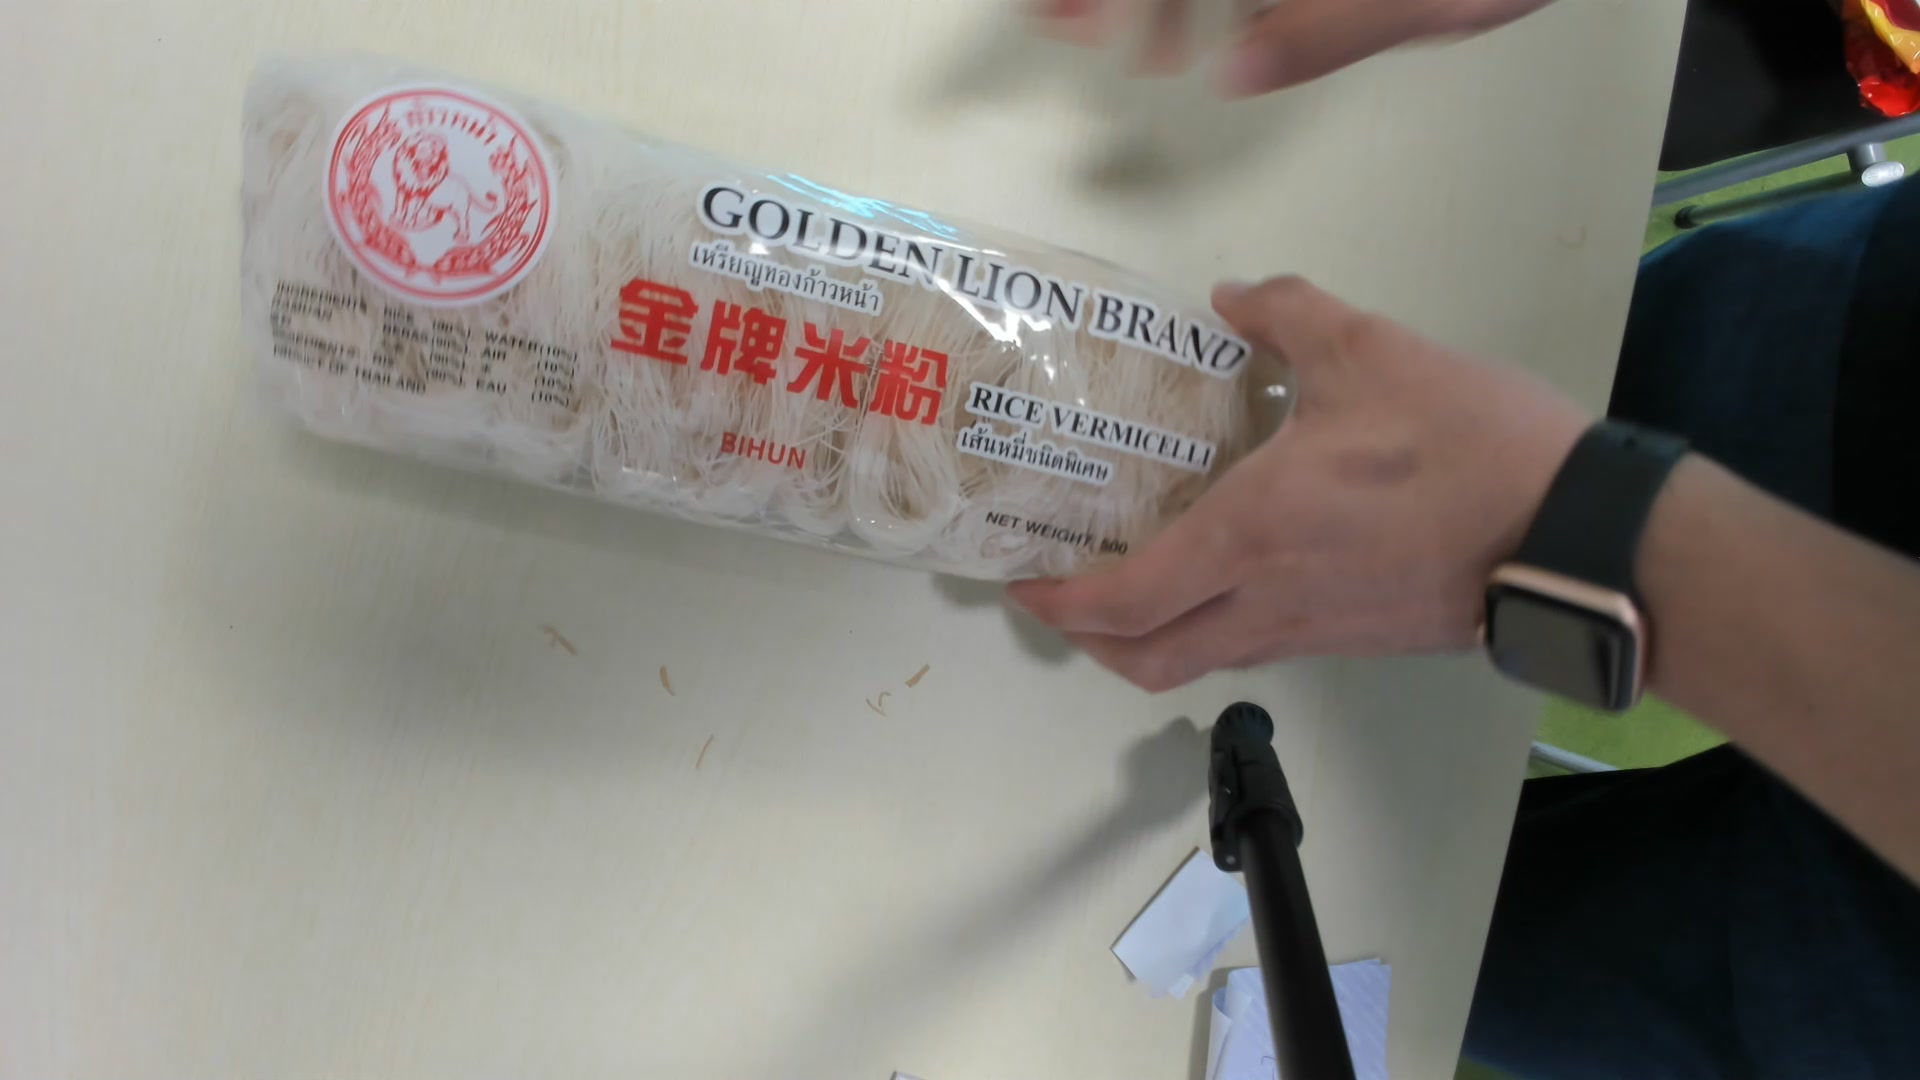BeeHoonVermicelli_500-599g_Halal_NonHealthy: (237, 55, 1276, 597)
